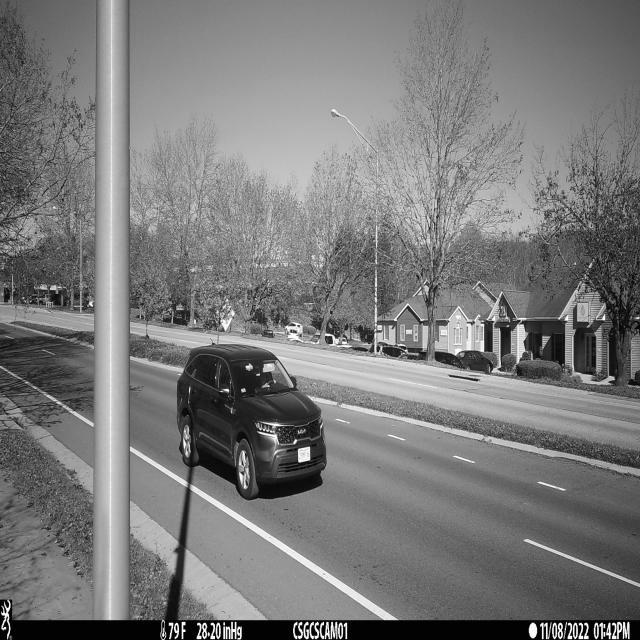SUV: (176, 344, 328, 501)
